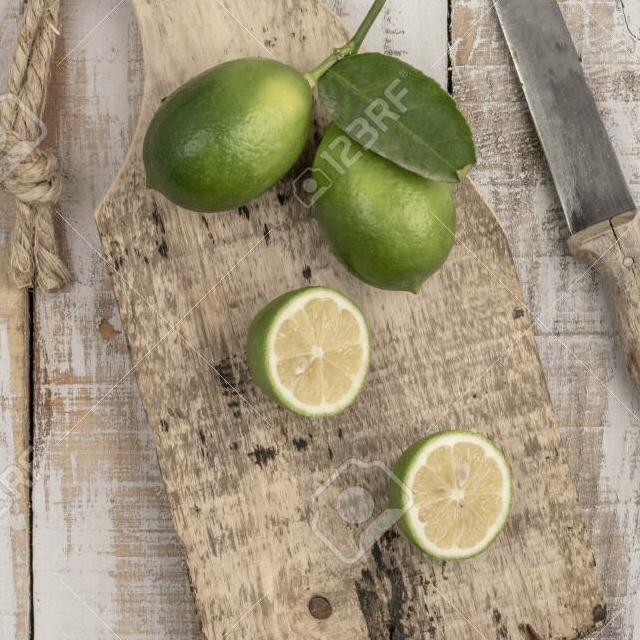lime: (305, 68, 478, 306), (135, 43, 332, 232)
